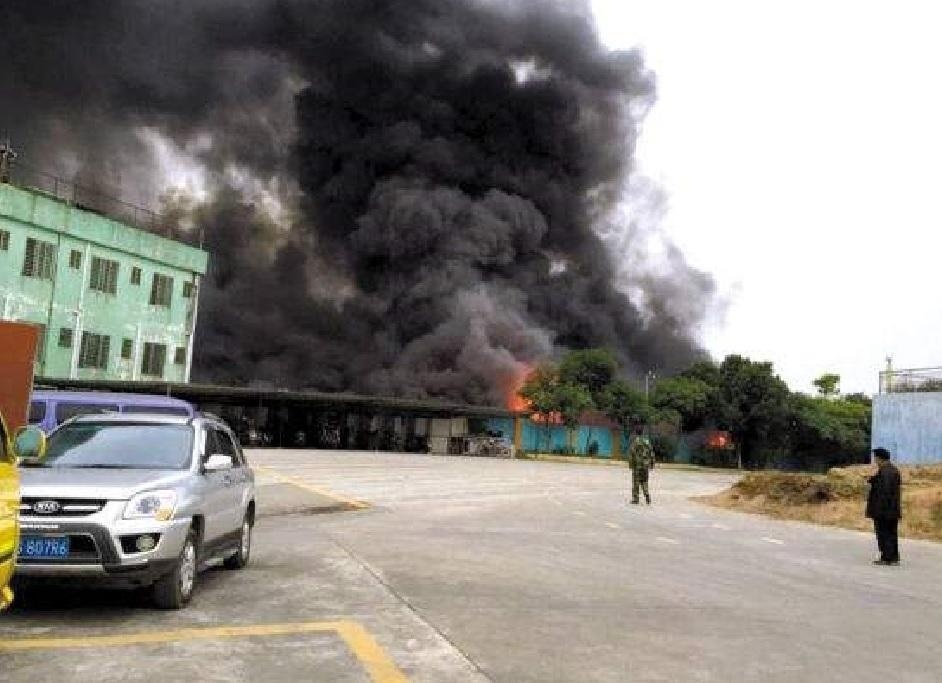fire: (508, 381, 561, 423)
